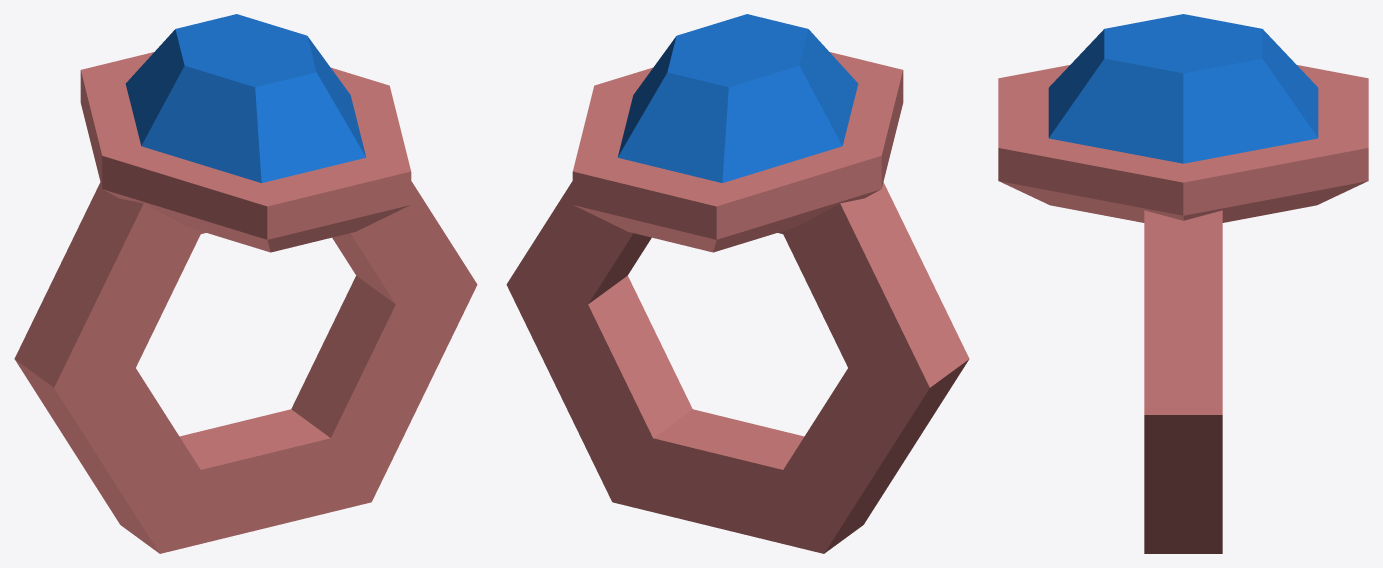
Rendered from SM_ring_6.fbx.
3 views of the same model, side by side, from view 1: azimuth 30°, elevation 25°; view 2: azimuth 150°, elevation 25°; view 3: azimuth 270°, elevation 25° (orthographic).
Visible parts, largest first — view 1: Tube_4; view 2: Tube_4; view 3: Tube_4.
Boxes of the visible parts, x1,y1,x2,y2 form: Tube_4: [14, 14, 477, 553]; Tube_4: [506, 14, 969, 553]; Tube_4: [998, 14, 1368, 553].
Bounding box in the file's own units: 3.39 × 3.54 × 2.59.
